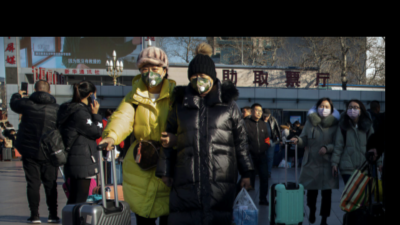with_mask: (140, 65, 165, 87), (191, 71, 213, 94), (317, 103, 331, 117), (347, 104, 361, 118)
without_mask: (252, 108, 263, 119)
